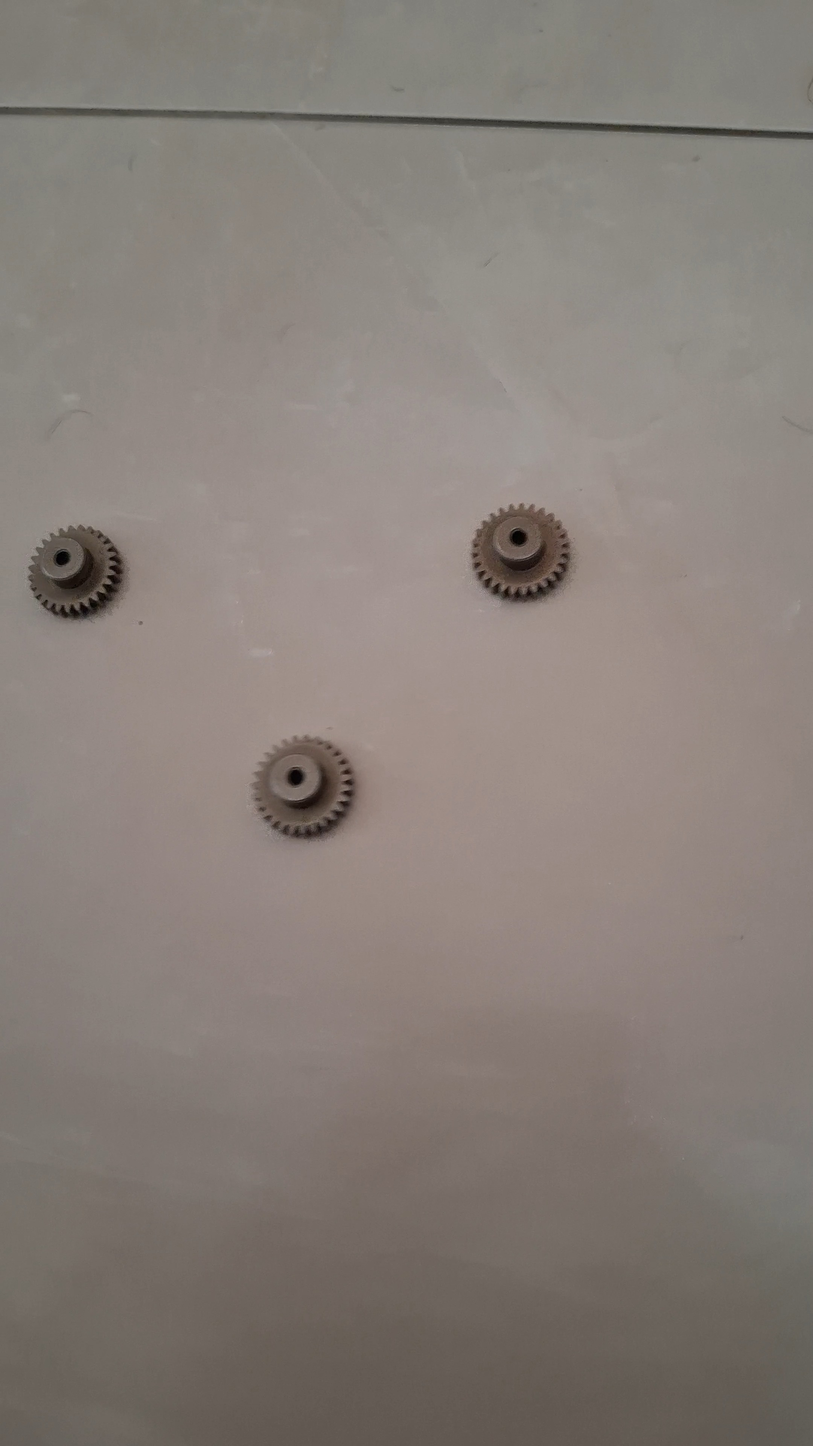spur gear: (204, 737, 304, 836), (432, 511, 533, 605), (0, 520, 89, 609)
